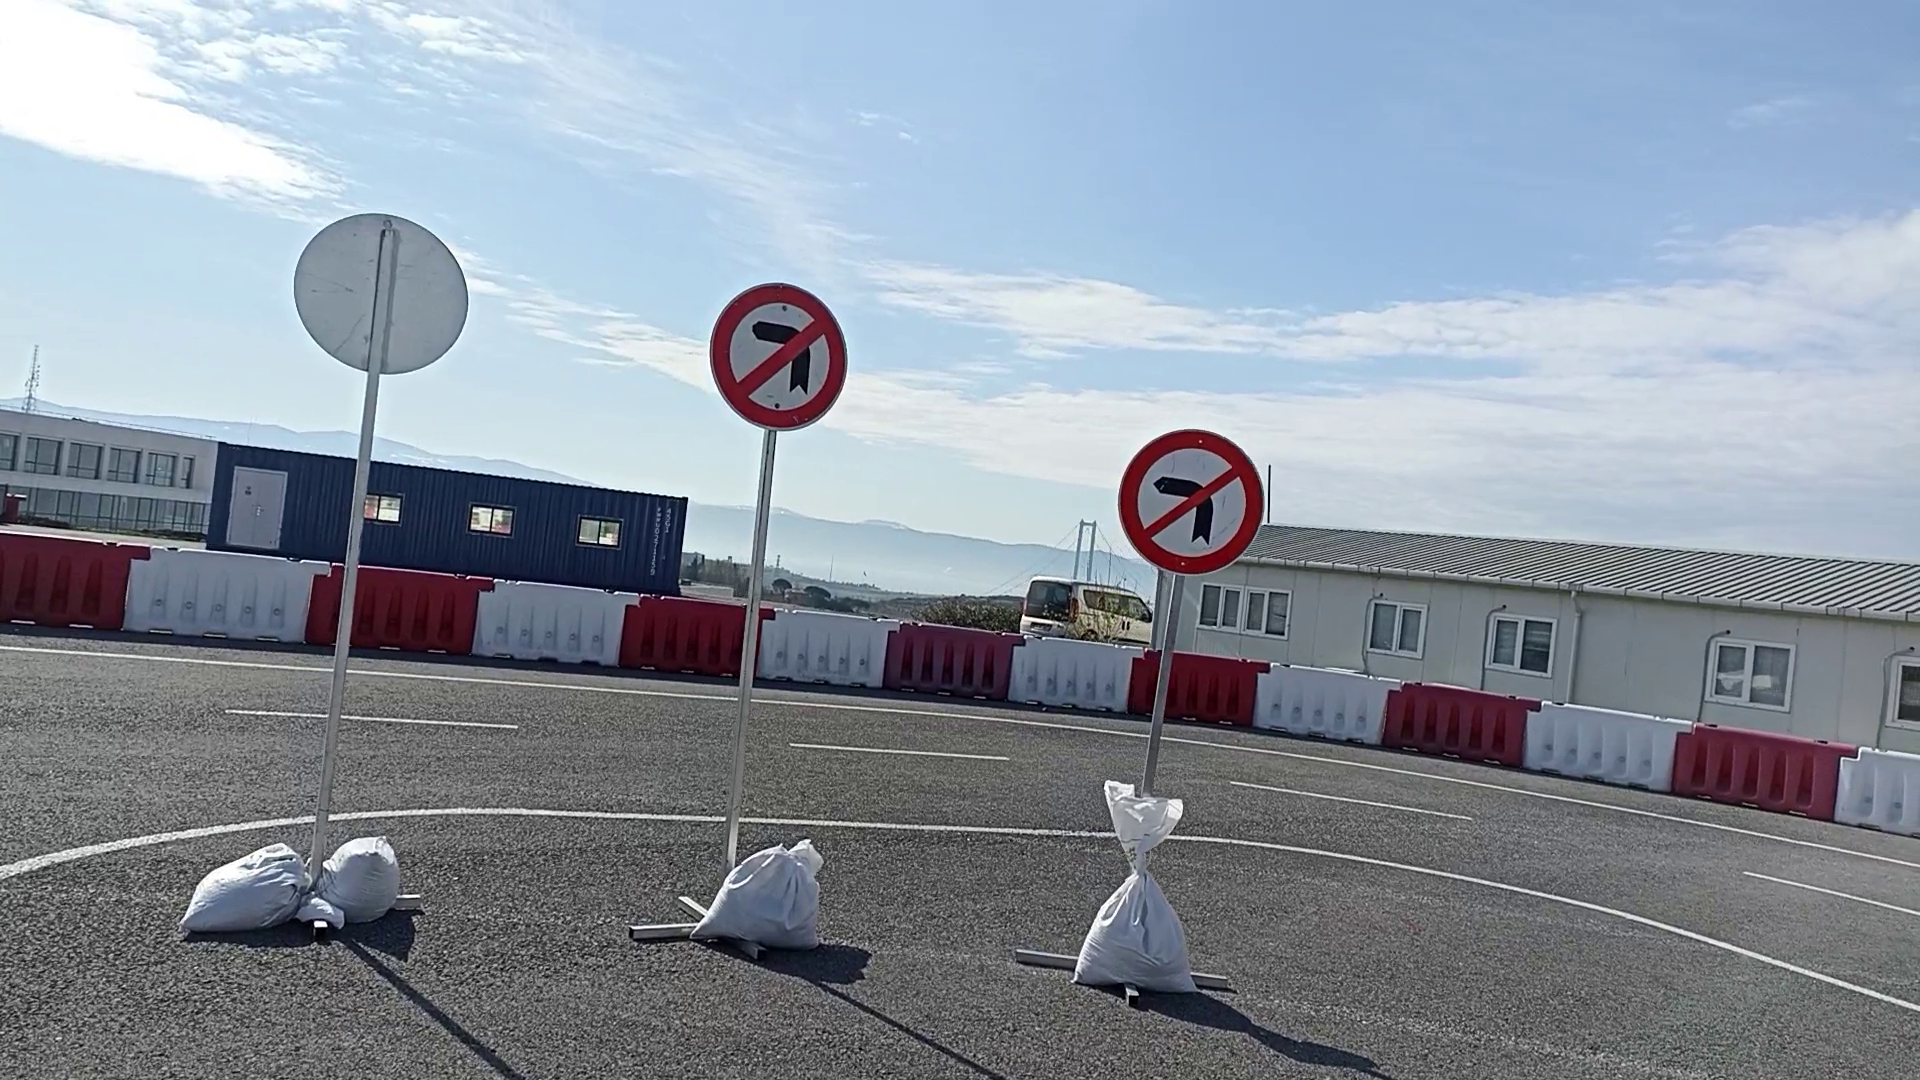noleft: (1117, 425, 1270, 578), (705, 280, 853, 433)
